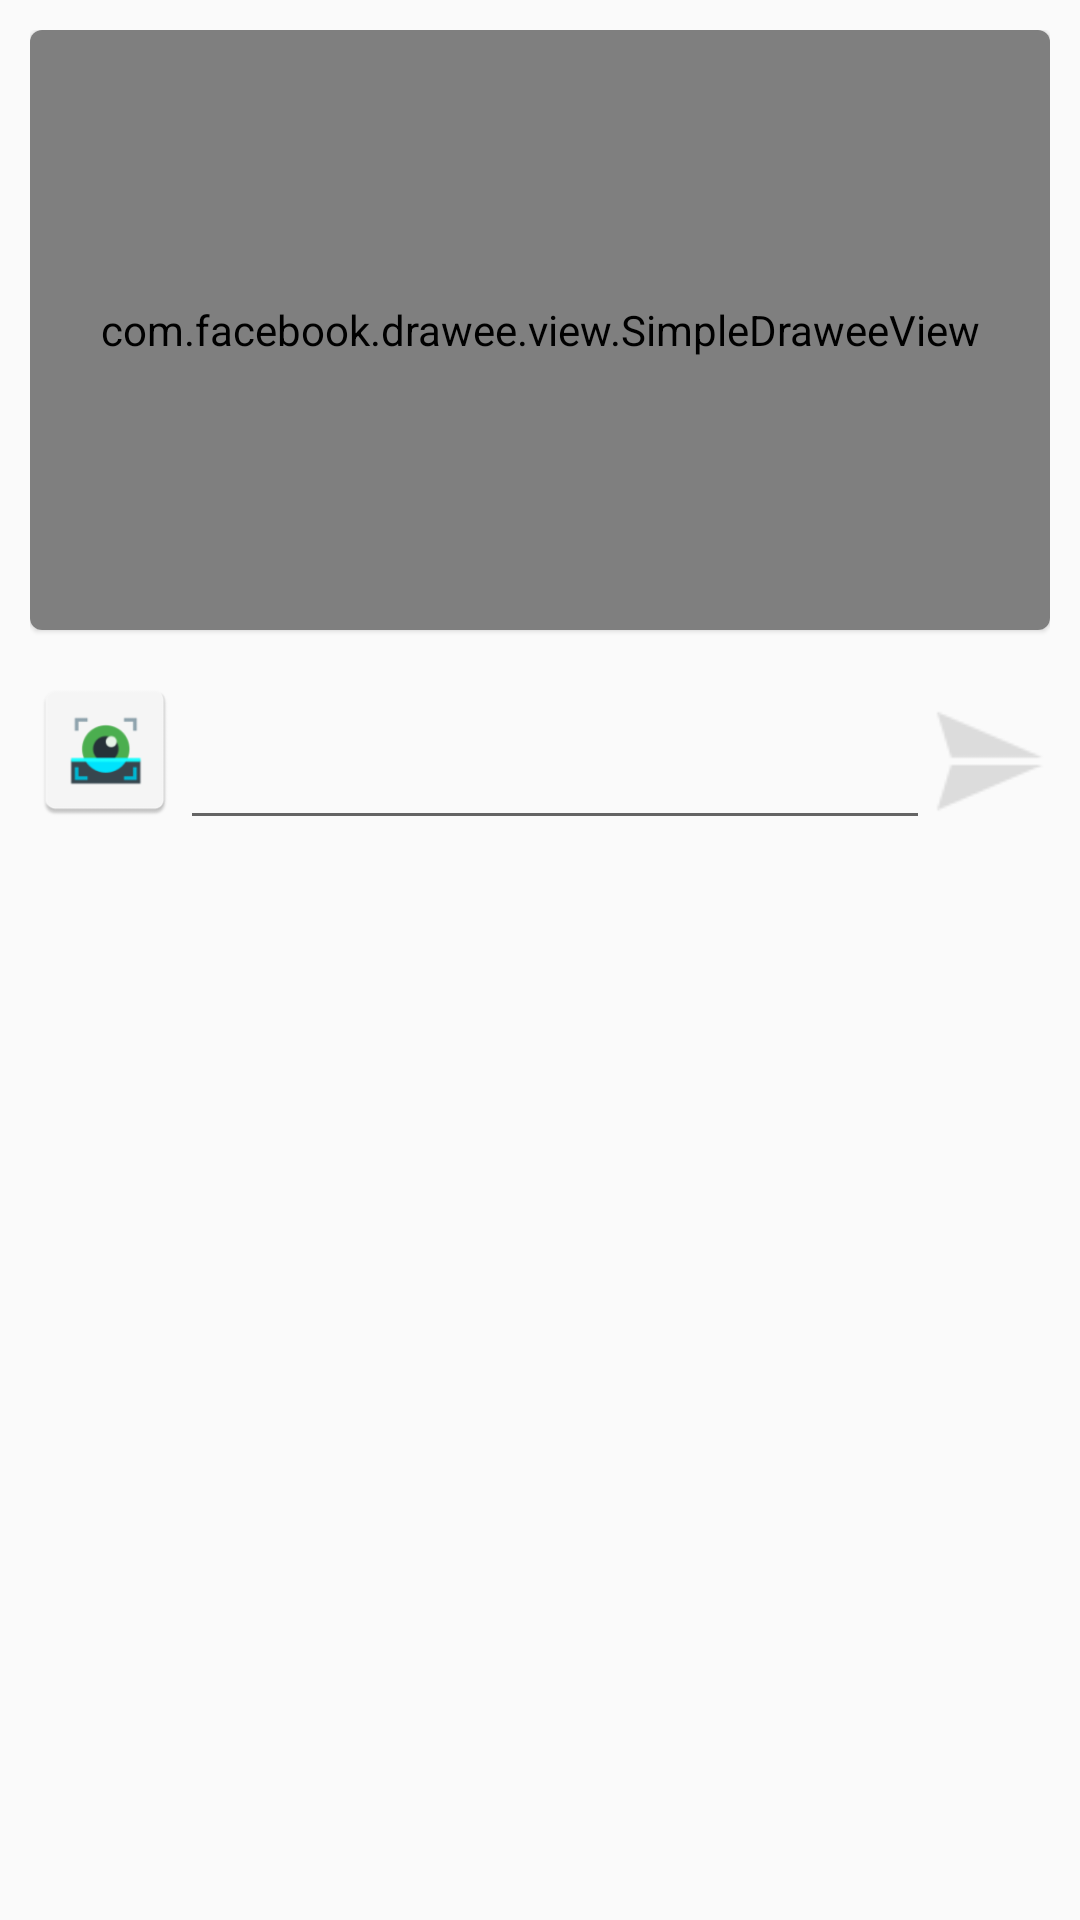

Icon bounding boxes for this 1080*1920 phone screenshot, format region(x1, y1, x2, y2):
send: region(940, 715, 1037, 807)
